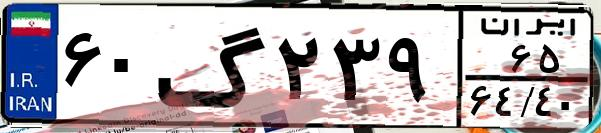0: (110, 28, 156, 98), (560, 70, 590, 125)
2: (270, 28, 330, 110)
3: (330, 28, 385, 110)
4: (495, 70, 520, 125), (535, 70, 560, 125)
5: (537, 27, 568, 80)
6: (57, 26, 110, 100), (508, 27, 537, 80), (470, 70, 495, 125)
9: (385, 28, 445, 110)
گ: (156, 12, 270, 120)
